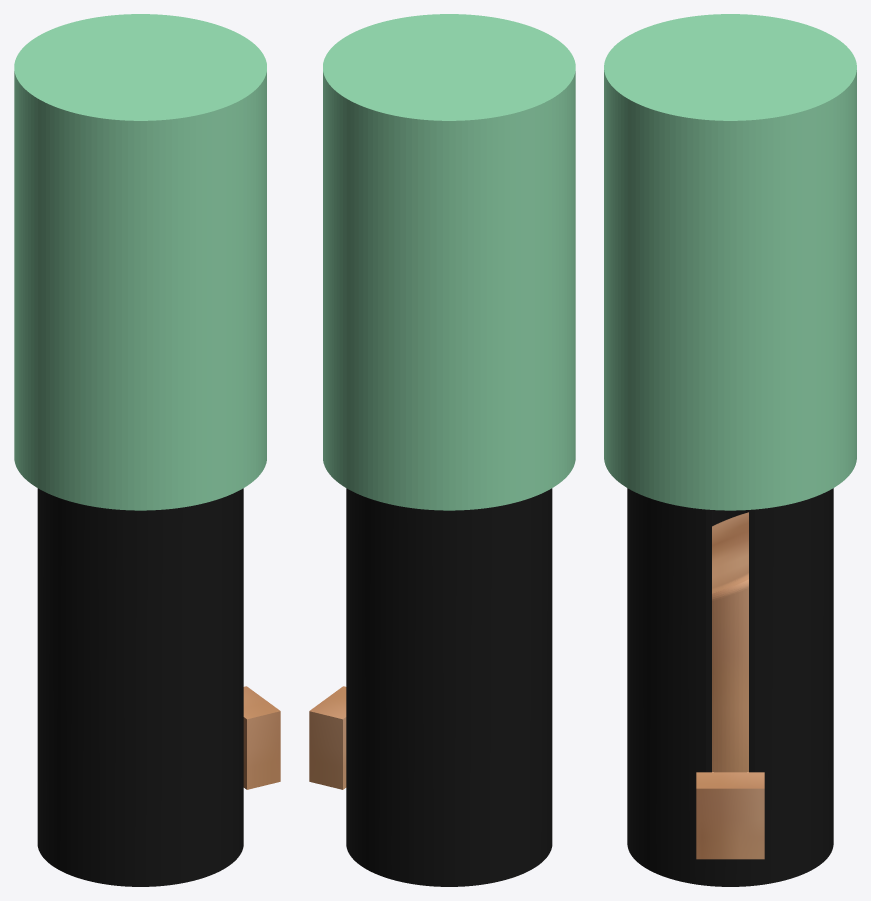
The model's file is Container_Lipstick__0007.glb.
3 views of the same model, side by side, from view 1: azimuth 30°, elevation 25°; view 2: azimuth 150°, elevation 25°; view 3: azimuth 270°, elevation 25° (orthographic).
Visible parts, largest first — view 1: cap::cap_shell, tube_base::tube_body, slider::slider_body; view 2: cap::cap_shell, tube_base::tube_body, slider::slider_body; view 3: cap::cap_shell, tube_base::tube_body, slider::bullet_red, slider::slider_body.
Boxes of the visible parts, x1,y1,x2,y2 form: cap::cap_shell: [14, 14, 266, 510]; tube_base::tube_body: [37, 488, 243, 886]; slider::slider_body: [243, 686, 280, 789]; cap::cap_shell: [323, 14, 575, 510]; tube_base::tube_body: [346, 488, 552, 886]; slider::slider_body: [309, 686, 346, 789]; cap::cap_shell: [604, 14, 856, 510]; tube_base::tube_body: [627, 488, 833, 886]; slider::bullet_red: [712, 512, 748, 772]; slider::slider_body: [696, 772, 764, 859].
Size of the model in its own units: 0.0276 by 0.0879 by 0.026.
Materials: 3 (1 with a texture image).
